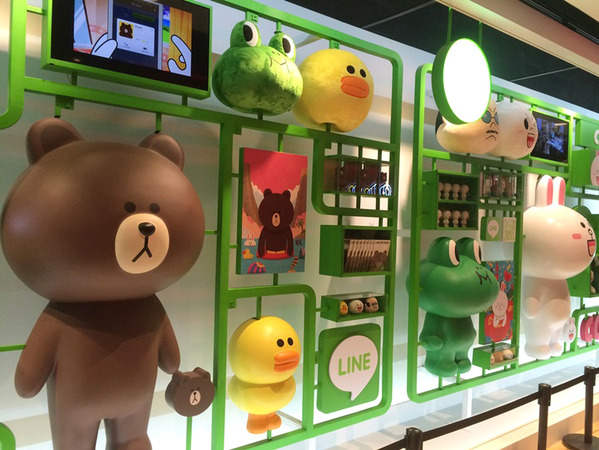line_brown: (10, 119, 211, 306), (168, 366, 217, 419), (256, 183, 299, 235)
